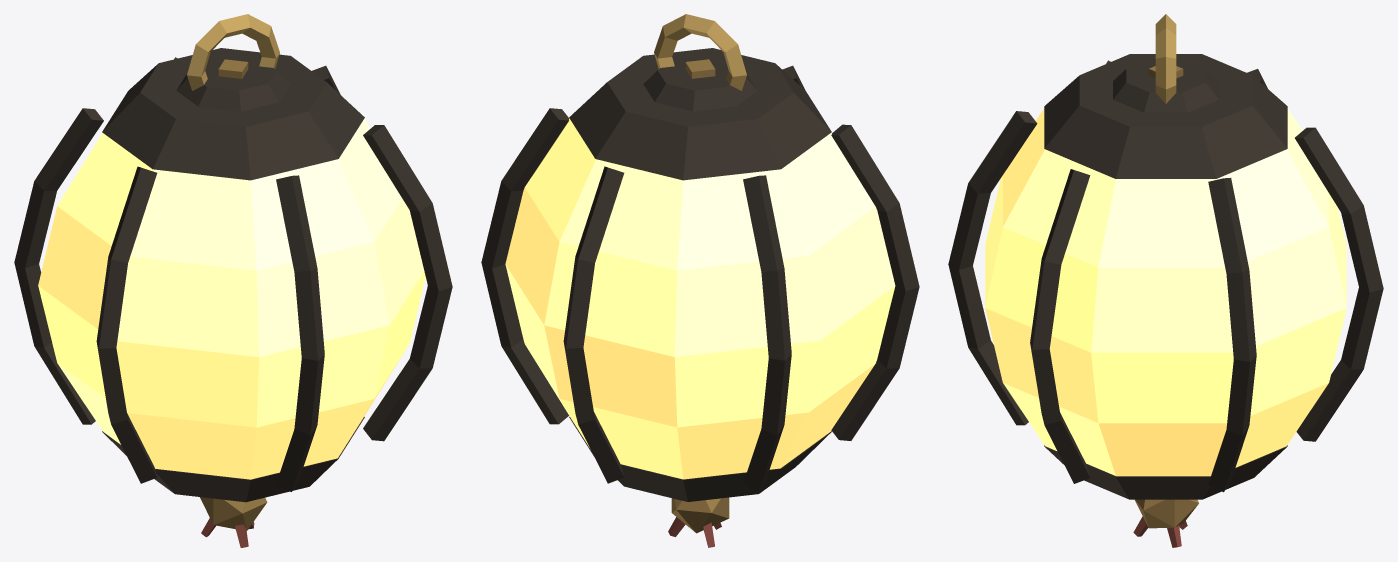
The model's file is paper_lantern.glb.
3 renders of one model, left to right at view 1: azimuth 30°, elevation 25°; view 2: azimuth 150°, elevation 25°; view 3: azimuth 270°, elevation 25°, orthographic.
Visible parts, largest first — view 1: paper_lantern; view 2: paper_lantern; view 3: paper_lantern.
Part boxes in pixels (box(x1,y1,x2,y2)): paper_lantern: box(14, 14, 452, 547); paper_lantern: box(481, 14, 919, 547); paper_lantern: box(948, 14, 1383, 547).
Size of the model in its own units: 0.425 by 0.5977 by 0.4561.
